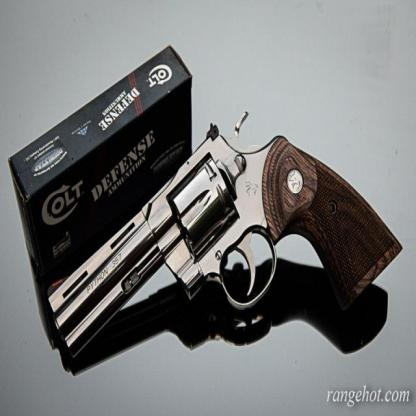handgun: (47, 96, 406, 368)
